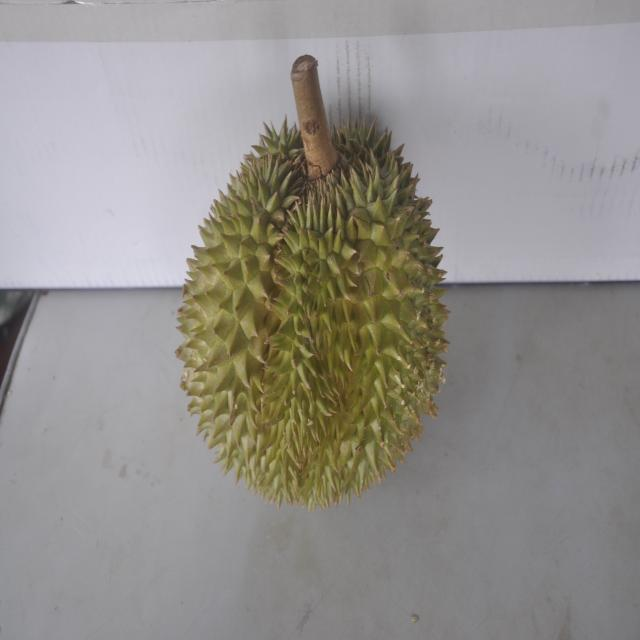mature: (174, 82, 444, 510)
